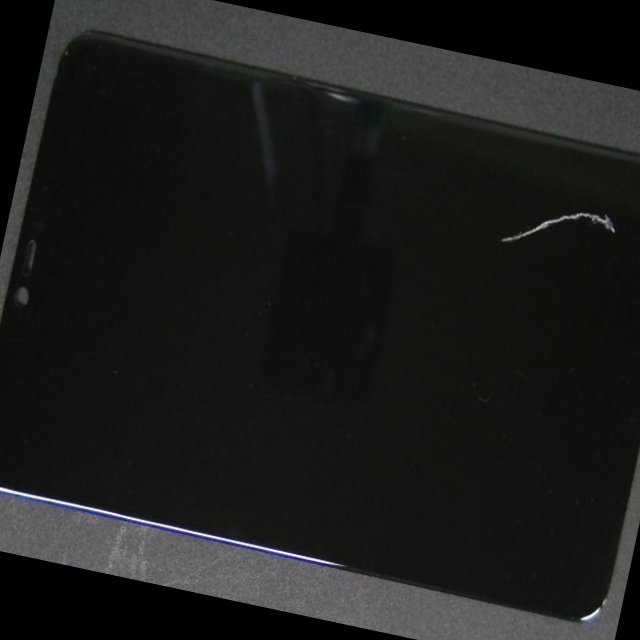scratch: (376, 68, 640, 293)
